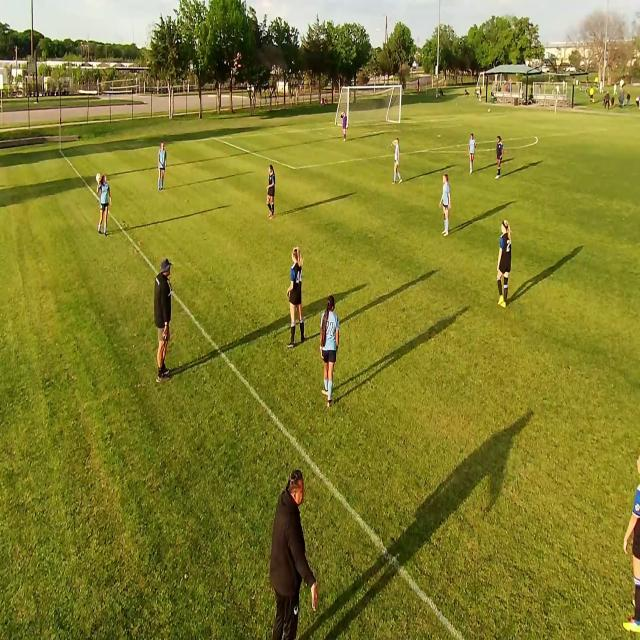ball: (96, 171, 102, 184)
team1: (622, 443, 640, 640), (288, 249, 306, 345), (497, 220, 515, 309), (267, 163, 278, 221), (497, 135, 507, 180)
team2: (320, 300, 340, 406), (96, 170, 111, 234), (441, 172, 454, 237), (394, 136, 404, 186), (158, 142, 167, 193), (469, 133, 478, 177)
